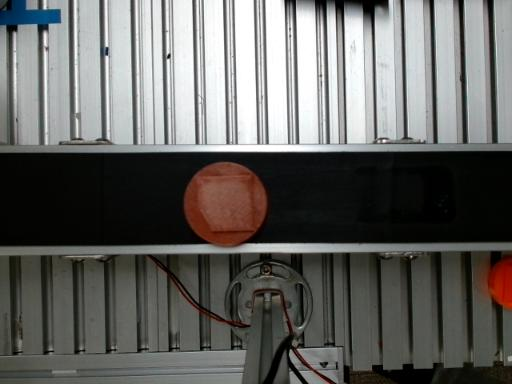Brown_Waper: (184, 162, 267, 246)
Not_Square: (196, 175, 255, 233)
